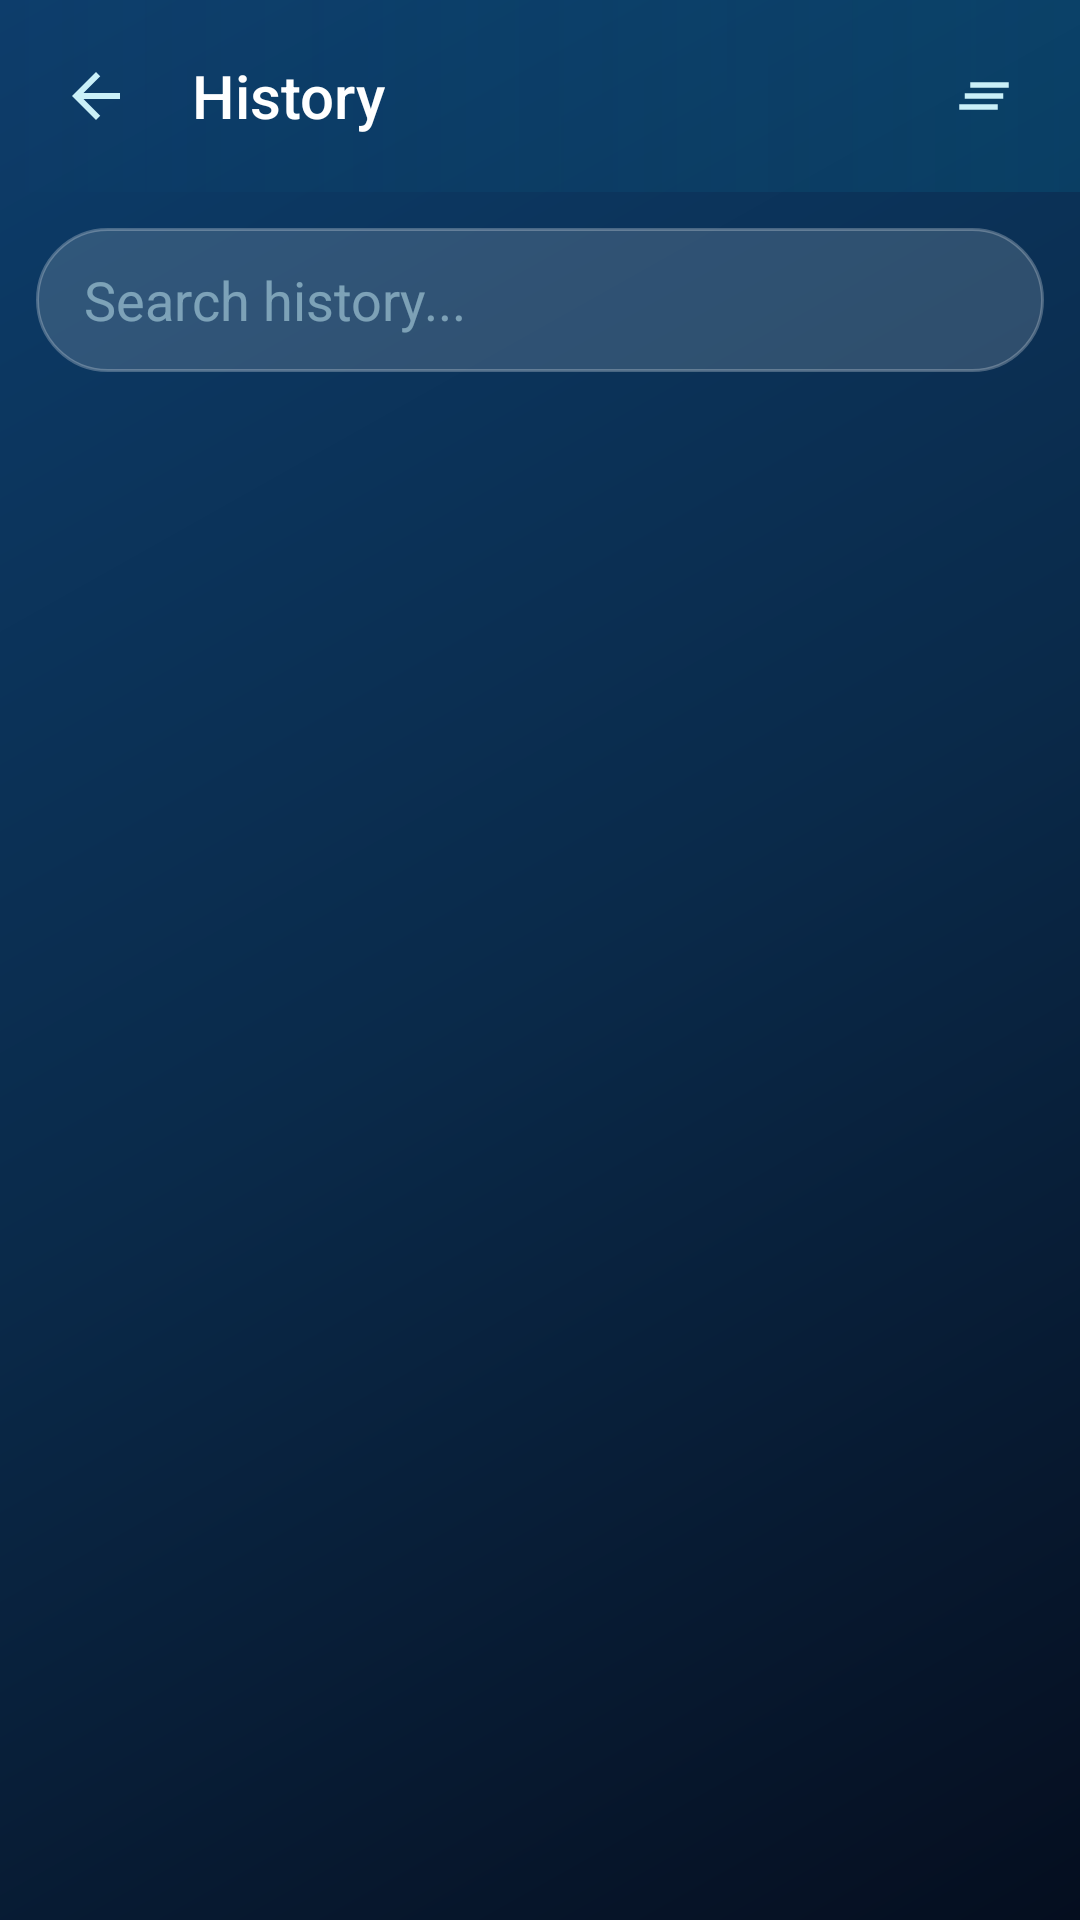

Icon bounding boxes for this 1080 × 1920 phone screenshot, format [x1=x1, y1=y1, x2=x2, y2=y2]:
Back: [x1=72, y1=72, x2=120, y2=120]
Clear All: [x1=959, y1=82, x2=1009, y2=110]
